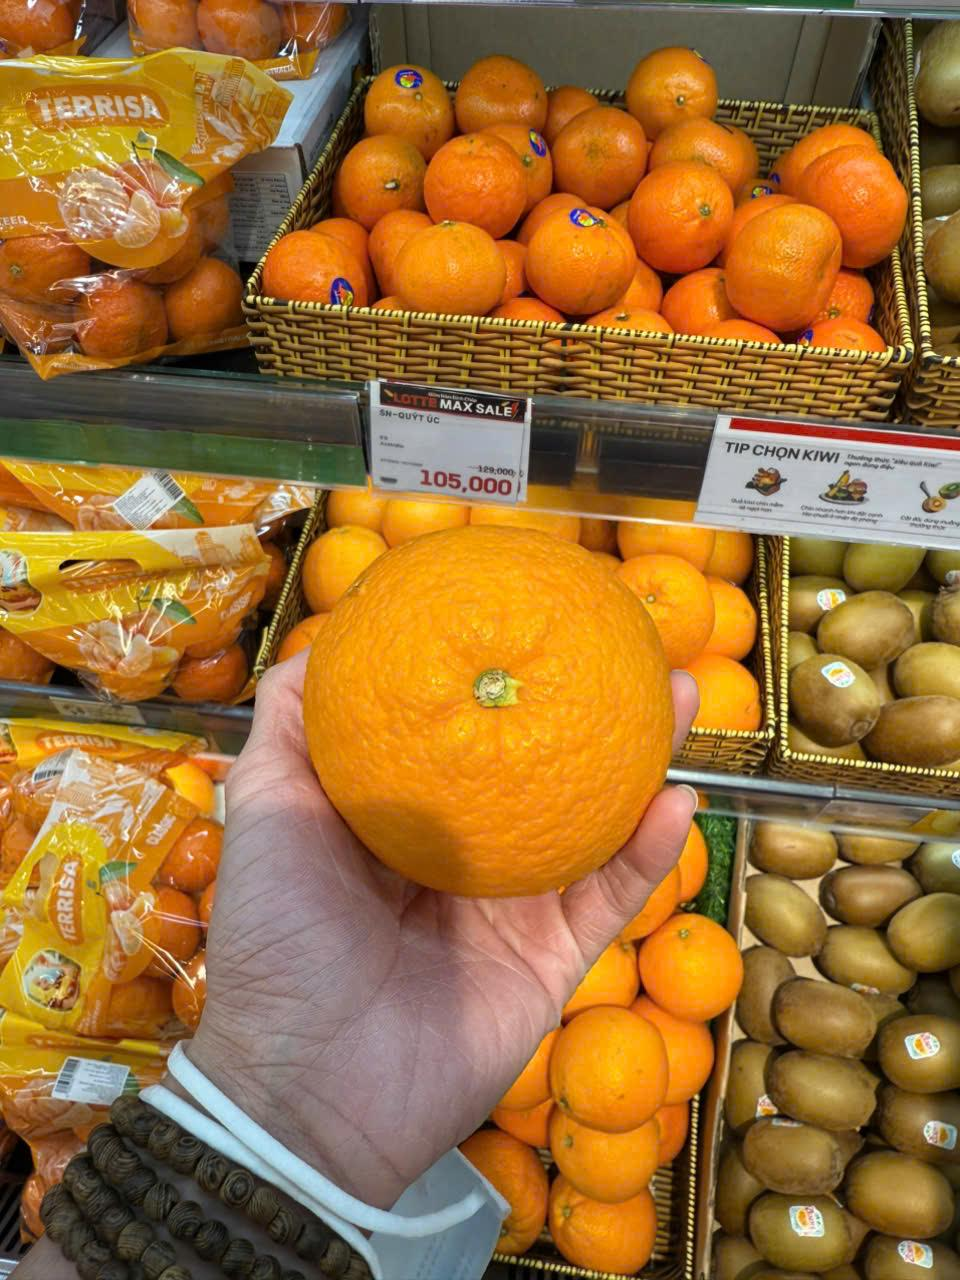orange: (292, 525, 694, 898), (722, 196, 840, 342), (548, 996, 664, 1136), (520, 185, 629, 328), (367, 216, 509, 322), (412, 126, 535, 236), (637, 905, 747, 1028), (818, 145, 910, 258), (260, 223, 362, 313), (635, 170, 724, 272), (535, 1108, 657, 1180), (550, 106, 643, 194), (548, 1192, 650, 1268), (360, 58, 452, 143), (630, 45, 718, 122), (335, 145, 430, 208)
